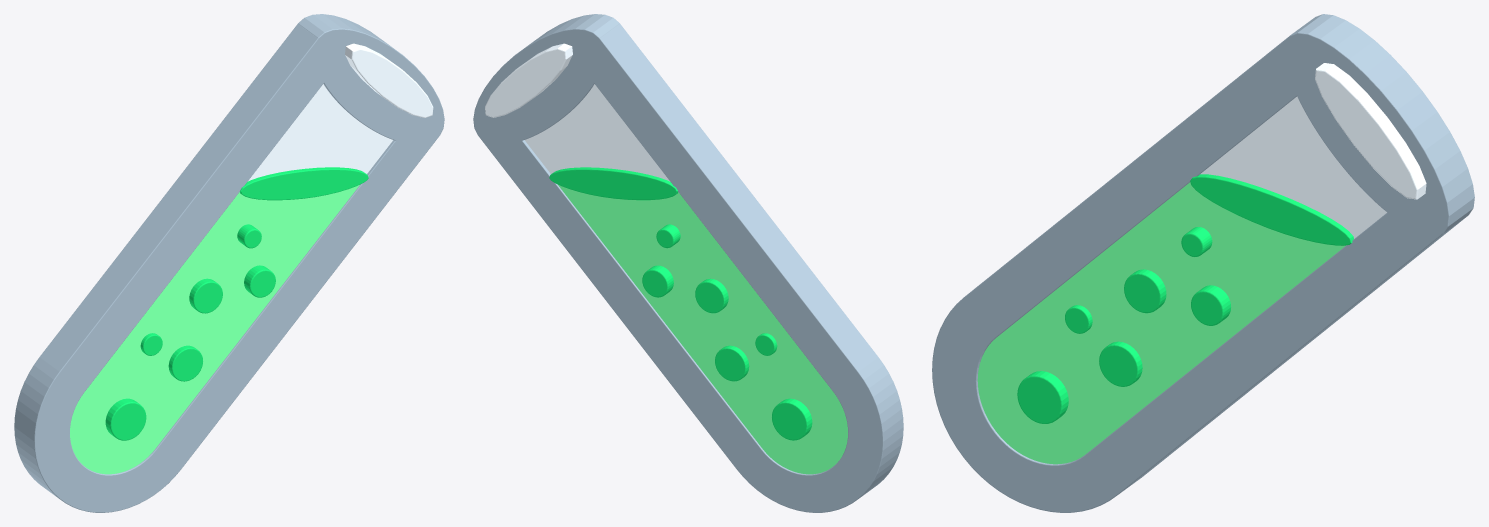
3 views of the same model, side by side, from view 1: azimuth 30°, elevation 25°; view 2: azimuth 150°, elevation 25°; view 3: azimuth 330°, elevation 25° (orthographic). The views are drawn at different scales.
Visible parts, largest first — view 1: FlatEmoji; view 2: FlatEmoji; view 3: FlatEmoji.
Part boxes in pixels (box(x1,y1,x2,y2)): FlatEmoji: box(14, 14, 444, 512); FlatEmoji: box(473, 14, 903, 512); FlatEmoji: box(932, 14, 1474, 512).
Bounding box in the file's own units: 3.25 × 3.25 × 0.4702.
